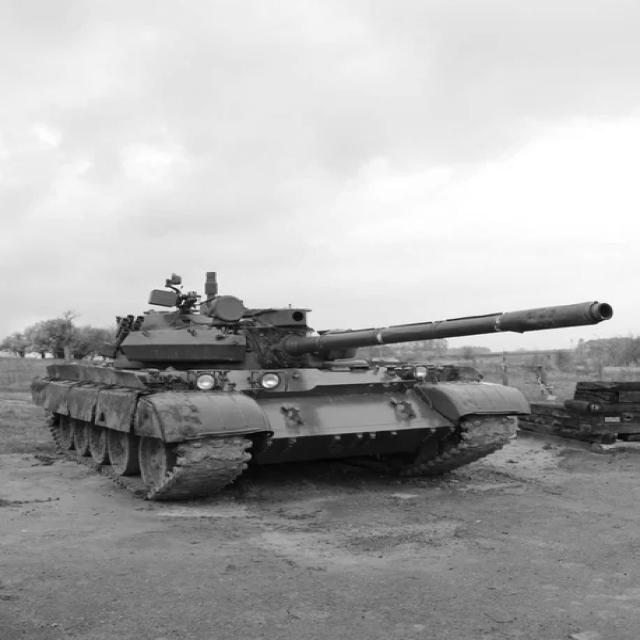Tank: (30, 269, 622, 507)
